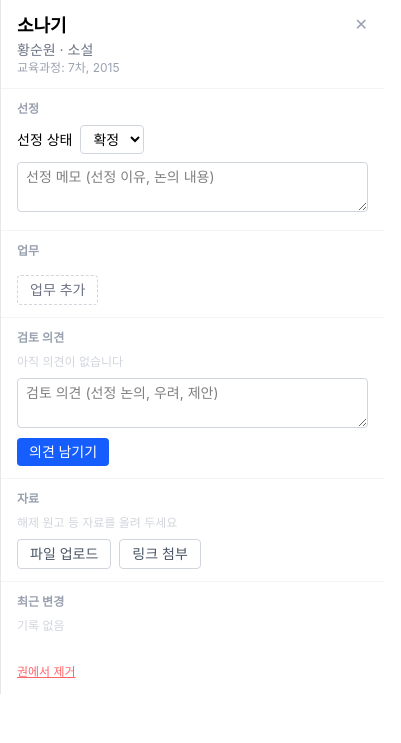
의견을 입력해 등록한다
Step 1. Type "분량 우려" into the text box with placeholder "검토 의견 (선정 논의, 우려, 제안)" → [192, 403], box [17,378,368,428]
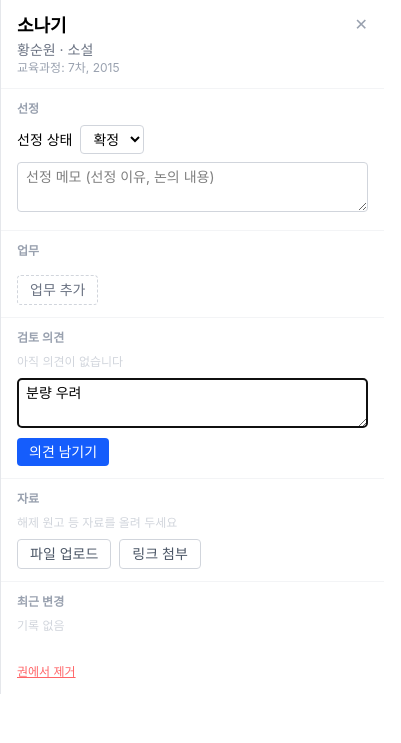
Step 2. Click the button "의견 남기기" → [63, 452], box [17,438,109,466]
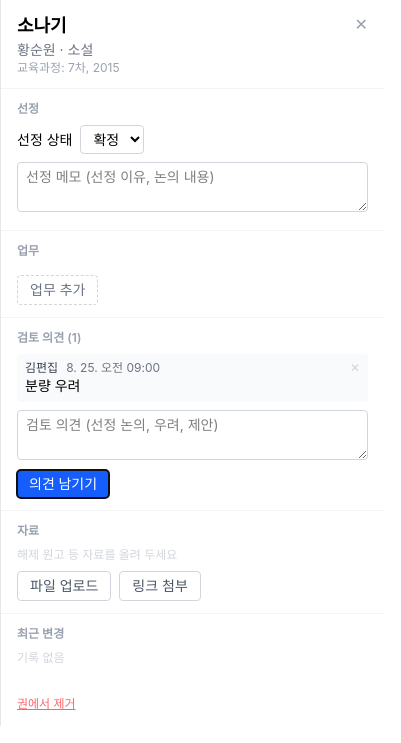
Expected: the text "분량 우려" is shown, [25,377,80,394]
